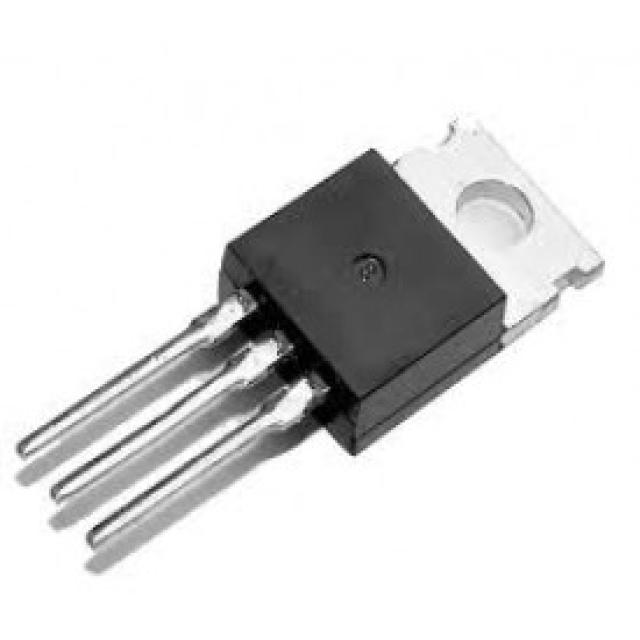Transistor: (16, 121, 596, 569)
